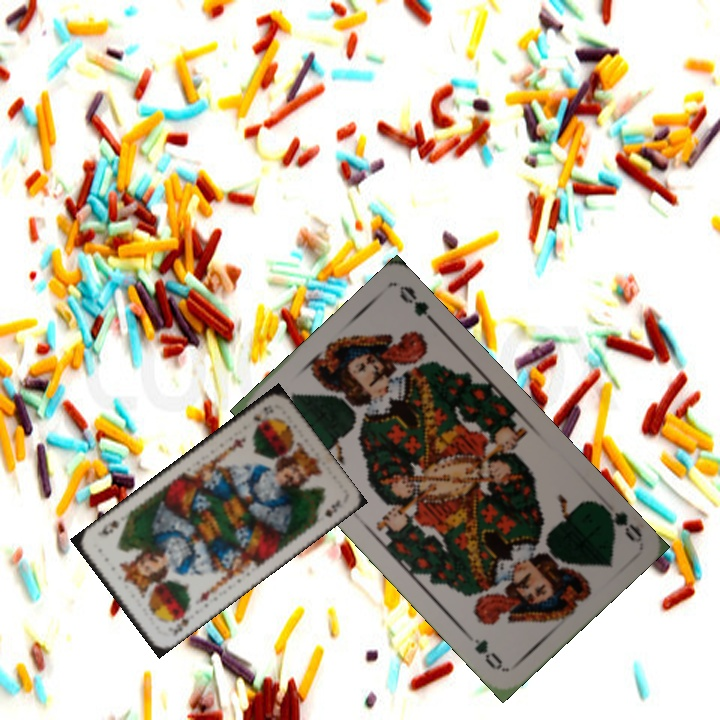GO: (593, 499, 644, 545)
SK: (168, 606, 192, 639), (249, 401, 276, 424)
